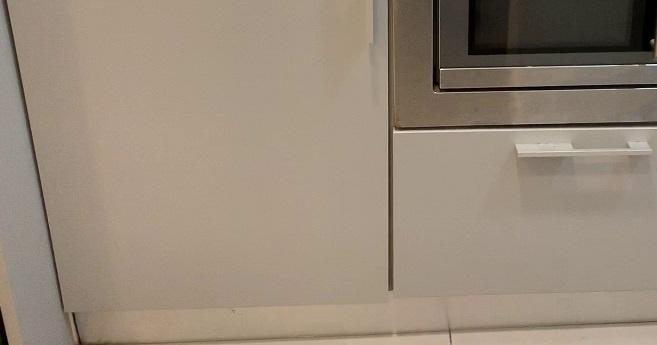cabinet_door: (393, 129, 657, 300)
handle: (511, 140, 654, 165)
